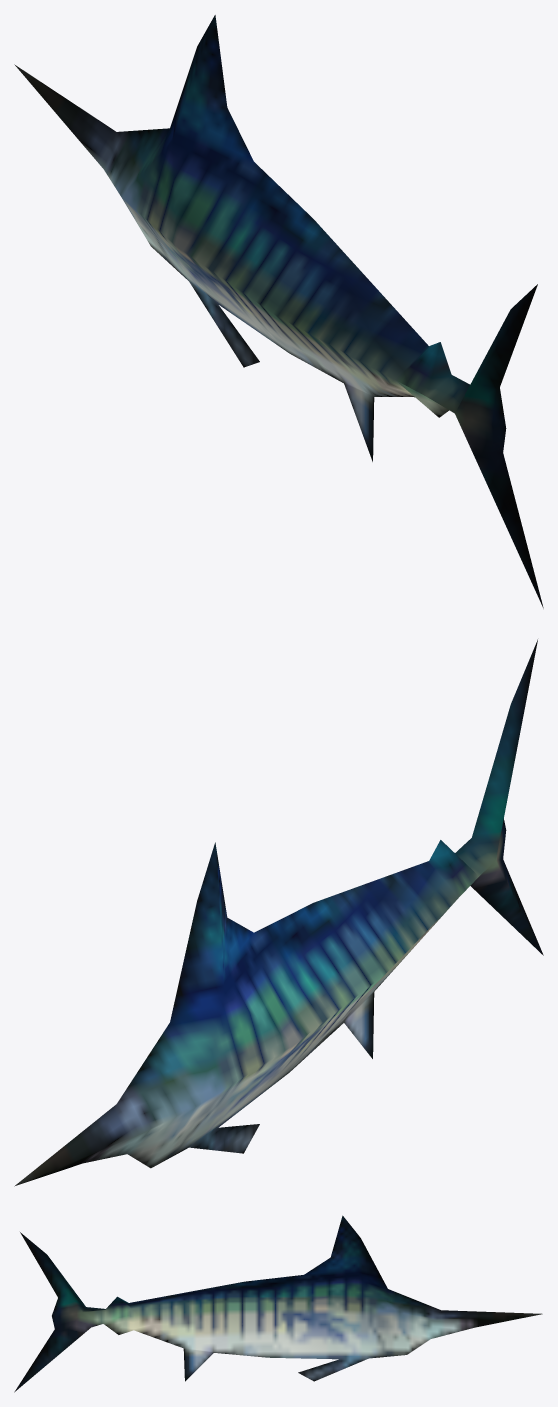
File: INST_LT_BMARLIN.fbx
3 views of the same model, one above another, from view 1: azimuth 30°, elevation 25°; view 2: azimuth 150°, elevation 25°; view 3: azimuth 270°, elevation 25° (orthographic). The views are drawn at different scales.
Parts seen in each view (by area): view 1: INST_LT_BMARLIN; view 2: INST_LT_BMARLIN; view 3: INST_LT_BMARLIN.
Part boxes in pixels (box(x1,y1,x2,y2)): INST_LT_BMARLIN: box(14, 15, 543, 608); INST_LT_BMARLIN: box(14, 639, 543, 1186); INST_LT_BMARLIN: box(14, 1215, 542, 1392).
Bounding box in the file's own units: 798 × 4635 × 12545.
Materials: 1 (1 with a texture image).
